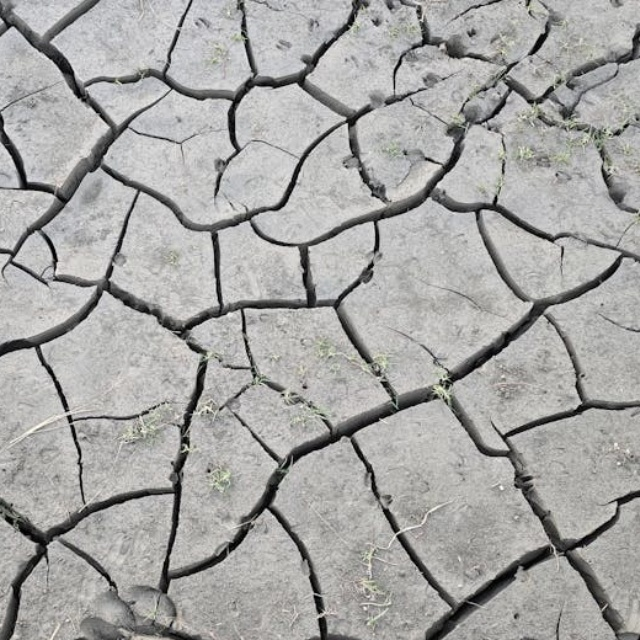深大裂缝: (330, 549, 586, 640), (0, 427, 109, 566)
细微裂纹: (554, 63, 640, 343)
网状裂隙: (0, 14, 509, 431)
